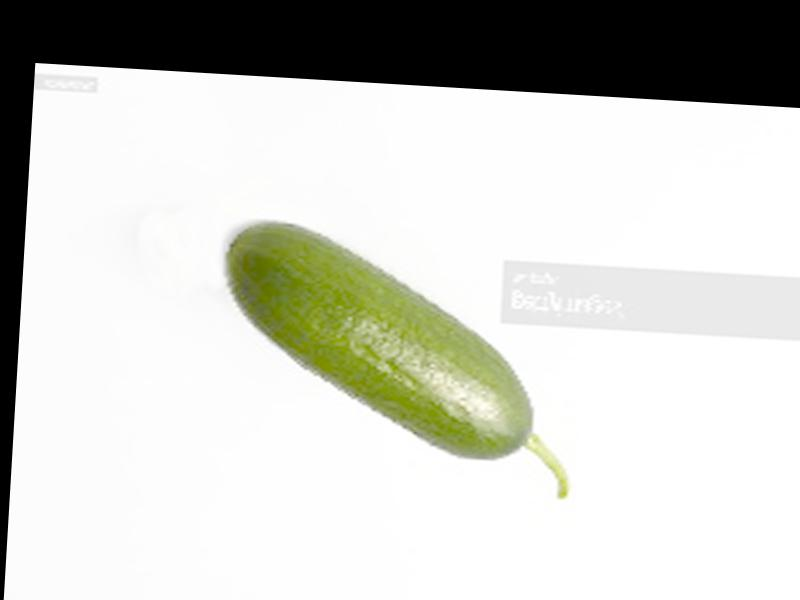Cucumber: (216, 217, 590, 496)
